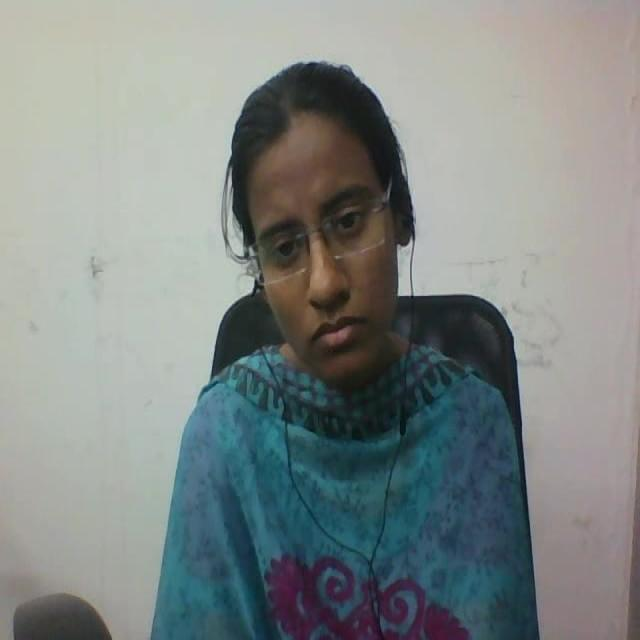Engaged: (204, 42, 448, 429)
